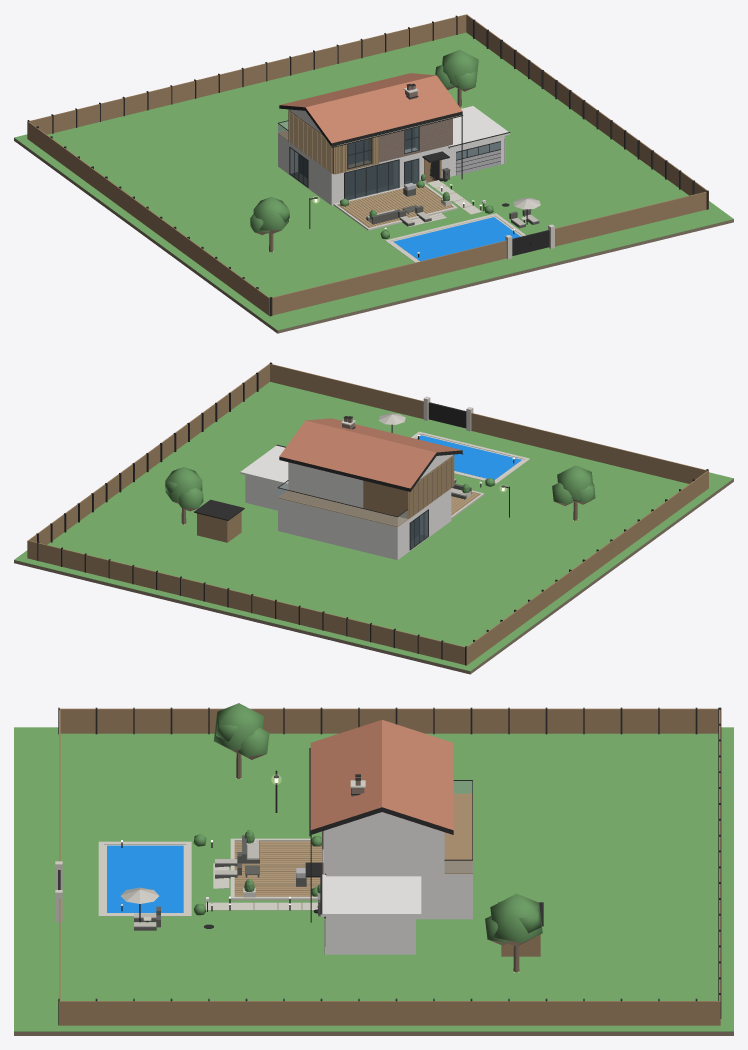
The model's file is maquette_Villa.glb.
3 renders of one model, top to bottom at view 1: azimuth 30°, elevation 25°; view 2: azimuth 150°, elevation 25°; view 3: azimuth 270°, elevation 25°, orthographic. The views are drawn at different scales.
Visible parts, largest first — view 1: Pelouse_gauche, Pelouse_droite, Cloture_fond, Toit_pente, Pelouse_arriere, Cloture_ouest, Cloture_avant_gauche, Cloture_est, Cloture_avant_droite, Eau_surface, Terre, Terrasse_lames (+21 smaller); view 2: Pelouse_gauche, Pelouse_droite, Pelouse_arriere, Cloture_fond, Toit_pente, Cloture_ouest, Cloture_avant_gauche, Cloture_est, RDC_corps, Cloture_avant_droite, Terre, Etage_blanc_corps (+17 smaller); view 3: Pelouse_droite, Pelouse_gauche, Pelouse_arriere, Cloture_est, Cloture_ouest, Toit_pente, Pelouse_avant, Eau_surface, Etage_blanc_corps, Garage_toit, Terrasse_lames, Garage_volume (+13 smaller).
Boxes of the visible parts, box(x1,y1,x2,y2) form: Pelouse_gauche: box(14, 99, 450, 330); Pelouse_droite: box(303, 32, 733, 261); Cloture_fond: box(29, 14, 466, 134); Toit_pente: box(279, 73, 462, 146); Pelouse_arriere: box(193, 72, 494, 240); Cloture_ouest: box(27, 121, 269, 316); Cloture_avant_gauche: box(272, 240, 506, 315); Cloture_est: box(466, 14, 708, 208); Cloture_avant_droite: box(555, 191, 706, 246); Eau_surface: box(393, 217, 520, 261); Terre: box(14, 138, 733, 333); Terrasse_lames: box(339, 185, 453, 227); Pelouse_gauche: box(297, 448, 733, 671); Pelouse_droite: box(14, 382, 434, 602); Pelouse_arriere: box(187, 473, 495, 628); Cloture_fond: box(28, 540, 464, 664); Toit_pente: box(279, 418, 462, 491); Cloture_ouest: box(466, 470, 708, 665); Cloture_avant_gauche: box(471, 413, 707, 483); Cloture_est: box(27, 364, 269, 558); RDC_corps: box(278, 498, 388, 557); Cloture_avant_droite: box(270, 364, 423, 418); Terre: box(14, 479, 733, 674); Etage_blanc_corps: box(288, 462, 363, 507); Pelouse_droite: box(14, 916, 733, 1031); Pelouse_gauche: box(14, 727, 733, 842); Pelouse_arriere: box(191, 842, 733, 915); Cloture_est: box(59, 1001, 720, 1025); Cloture_ouest: box(60, 708, 718, 733); Toit_pente: box(310, 720, 453, 834); Pelouse_avant: box(14, 842, 98, 915); Eau_surface: box(107, 845, 183, 912); Etage_blanc_corps: box(334, 831, 444, 873); Garage_toit: box(320, 874, 421, 916); Terrasse_lames: box(234, 841, 321, 896); Garage_volume: box(326, 916, 415, 954).
Bounding box in the file's own units: 48 × 10.52 × 48.
